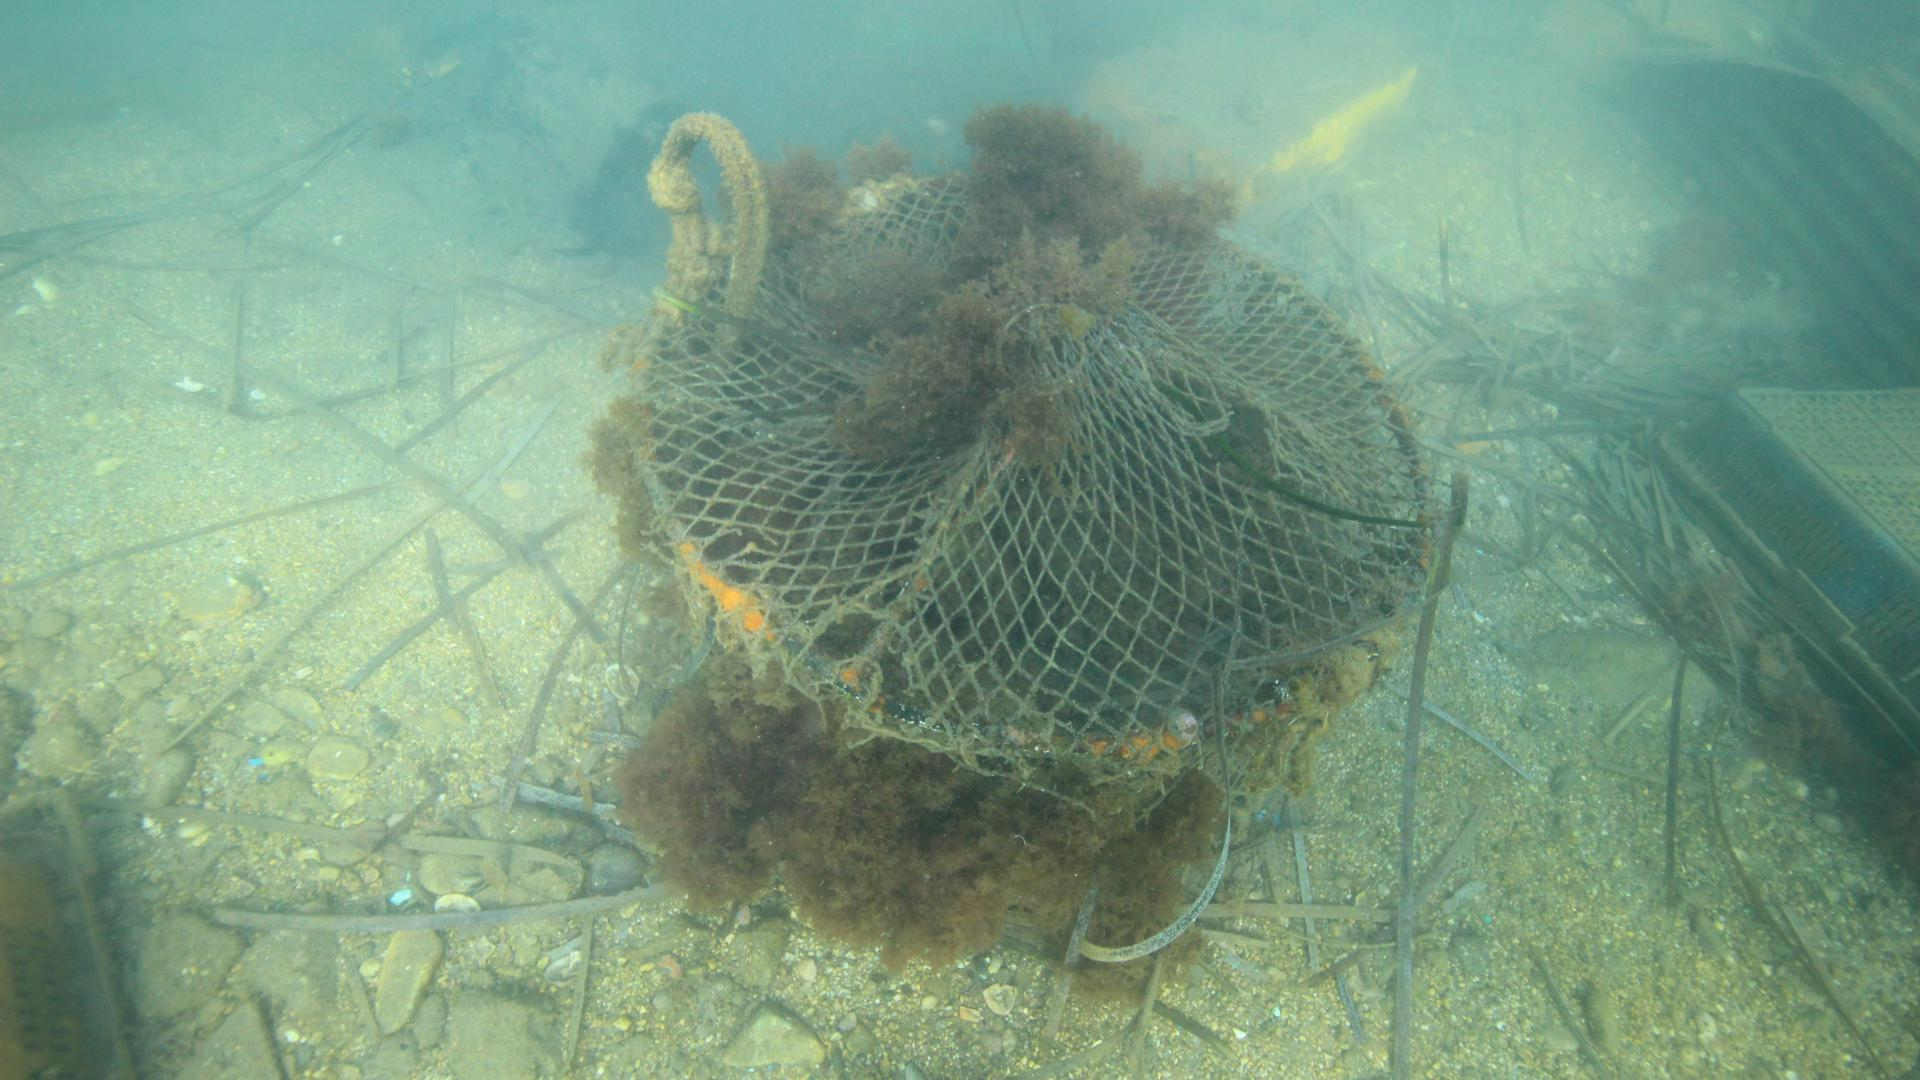bundle of ropes: (642, 107, 774, 328)
circular fish trap: (629, 169, 1439, 847)
